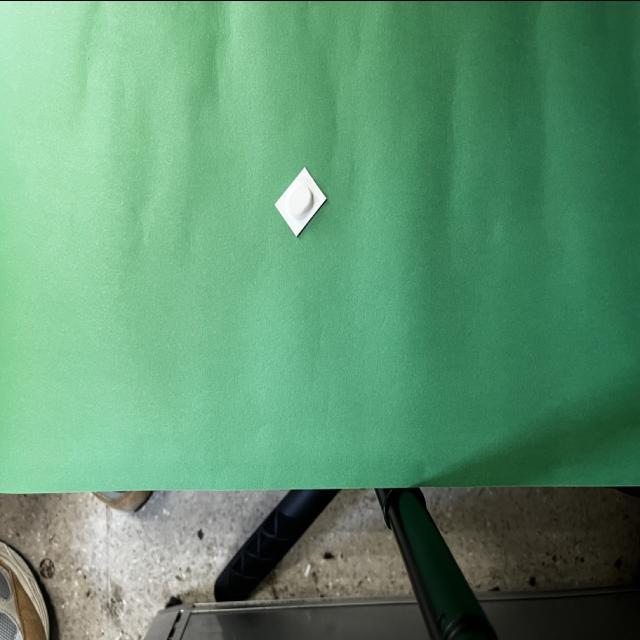Other Objects: (275, 168, 326, 235)
